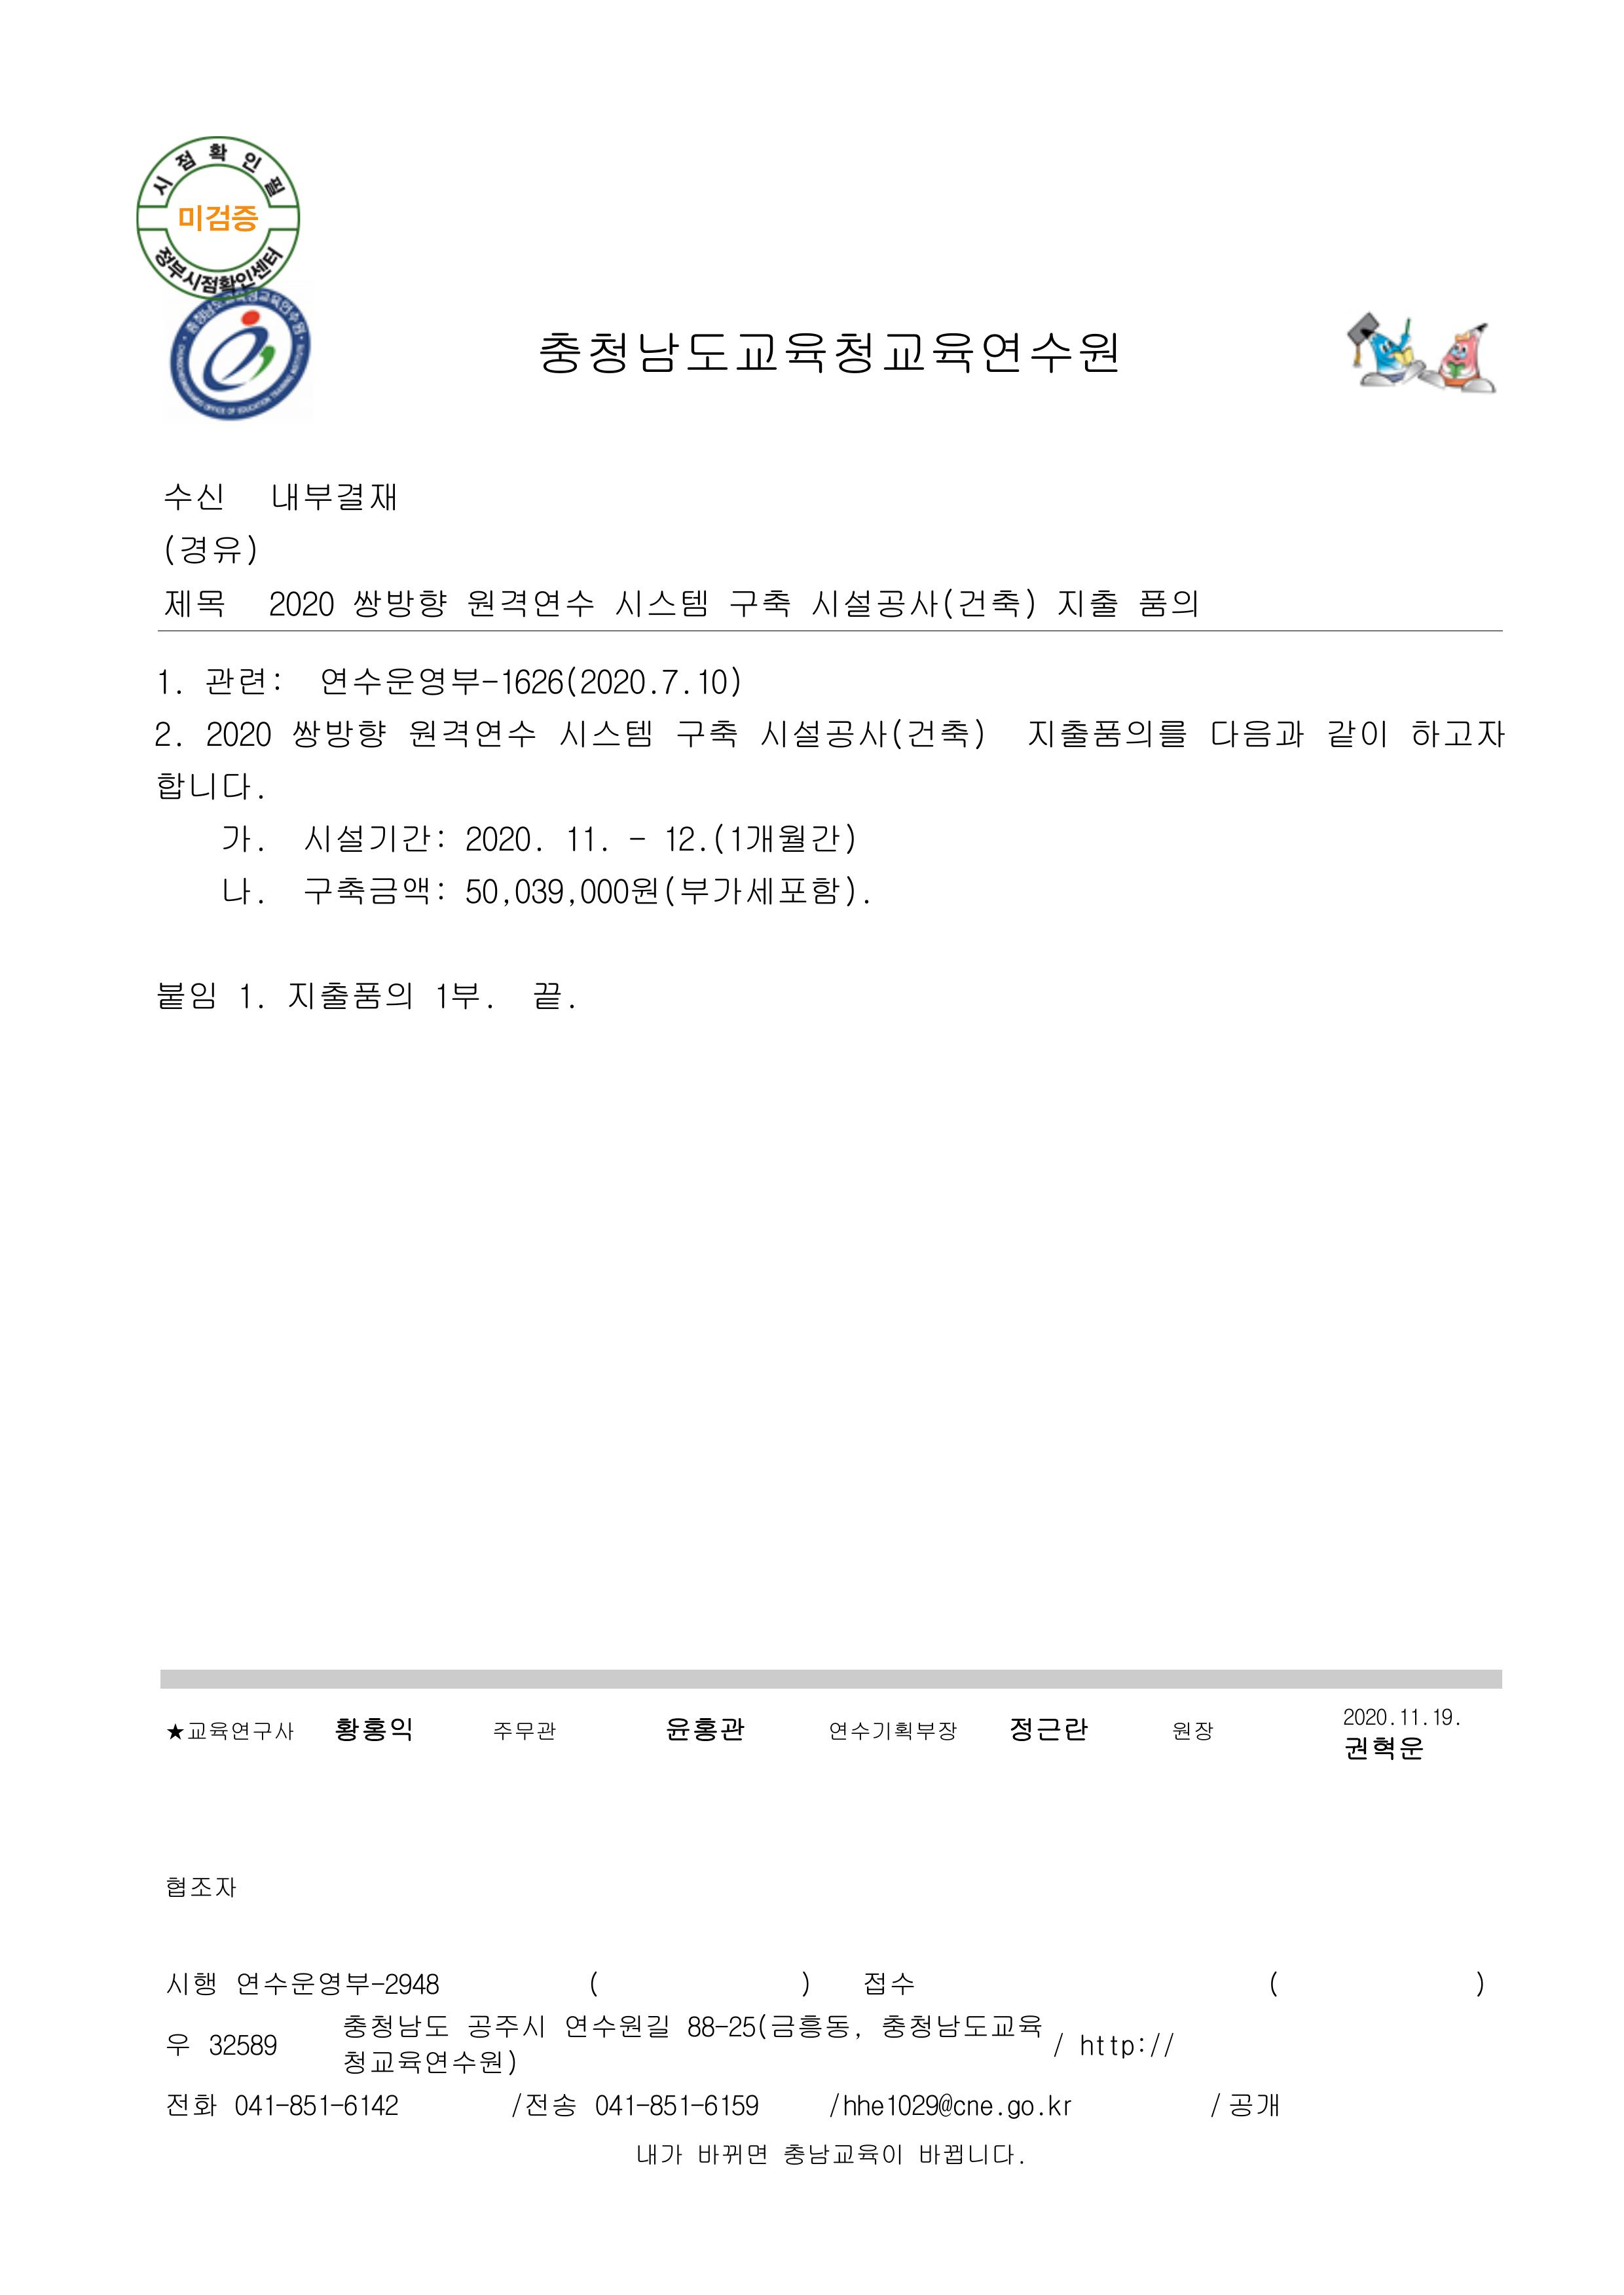t: (538, 327, 1123, 380), (318, 662, 696, 699), (756, 713, 986, 754), (810, 583, 1035, 620), (659, 872, 863, 910), (232, 1965, 441, 2000), (1021, 713, 1186, 754), (685, 2007, 852, 2044), (877, 2010, 1044, 2045), (301, 821, 448, 856), (269, 476, 397, 517), (283, 975, 417, 1014), (710, 821, 856, 856), (513, 872, 659, 907), (462, 583, 596, 620), (404, 713, 538, 749), (301, 872, 434, 907), (779, 2137, 907, 2168), (290, 713, 390, 754), (1207, 713, 1306, 754), (339, 2012, 452, 2047), (155, 766, 258, 803), (554, 717, 652, 756), (162, 531, 258, 569), (352, 583, 452, 620), (562, 2007, 673, 2040), (613, 583, 710, 620), (882, 2089, 997, 2119), (462, 2007, 548, 2044), (1406, 717, 1506, 749), (343, 2051, 448, 2081), (828, 1720, 961, 1743), (176, 200, 258, 237), (204, 662, 286, 699), (663, 1710, 745, 1747), (169, 1720, 297, 1743), (1004, 1713, 1090, 1747), (286, 2095, 401, 2119), (649, 2095, 763, 2119), (334, 1713, 417, 1747), (1323, 713, 1390, 754), (1341, 1733, 1424, 1764), (724, 583, 793, 620), (462, 821, 538, 854), (1051, 583, 1118, 620), (917, 2144, 1018, 2168), (162, 583, 227, 620), (1134, 583, 1197, 620), (673, 713, 738, 749), (265, 589, 337, 620), (204, 717, 276, 749), (691, 2140, 772, 2168), (156, 979, 218, 1014), (204, 2030, 279, 2058), (165, 480, 227, 513), (508, 2089, 576, 2119), (431, 979, 487, 1014), (1225, 2089, 1283, 2123), (562, 821, 617, 856), (691, 662, 742, 699), (1079, 2031, 1149, 2058), (169, 1875, 239, 1900), (462, 875, 517, 907), (659, 821, 710, 854), (455, 2051, 520, 2075), (490, 1720, 559, 1743), (228, 2089, 279, 2119), (165, 1968, 218, 1996), (828, 2095, 886, 2119), (591, 2089, 638, 2119), (165, 2095, 221, 2119), (531, 979, 569, 1014), (218, 821, 258, 854), (218, 875, 258, 907), (863, 1972, 914, 1996), (1172, 1720, 1216, 1747), (1004, 2096, 1048, 2123), (634, 2144, 689, 2165), (1341, 1706, 1390, 1727), (1148, 2033, 1176, 2058), (239, 986, 265, 1010), (156, 720, 179, 749), (1048, 2096, 1076, 2119), (156, 671, 179, 696), (1397, 1706, 1424, 1727), (1431, 1706, 1455, 1727), (1207, 2095, 1225, 2119)
